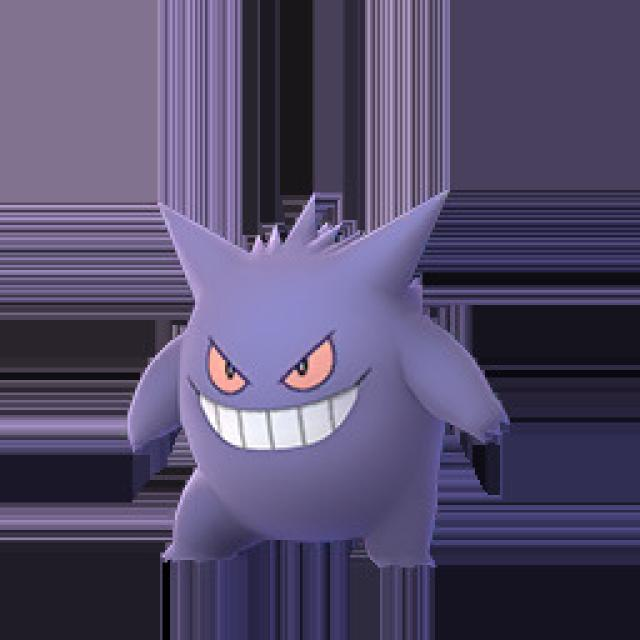Gengar: (124, 193, 512, 565)
